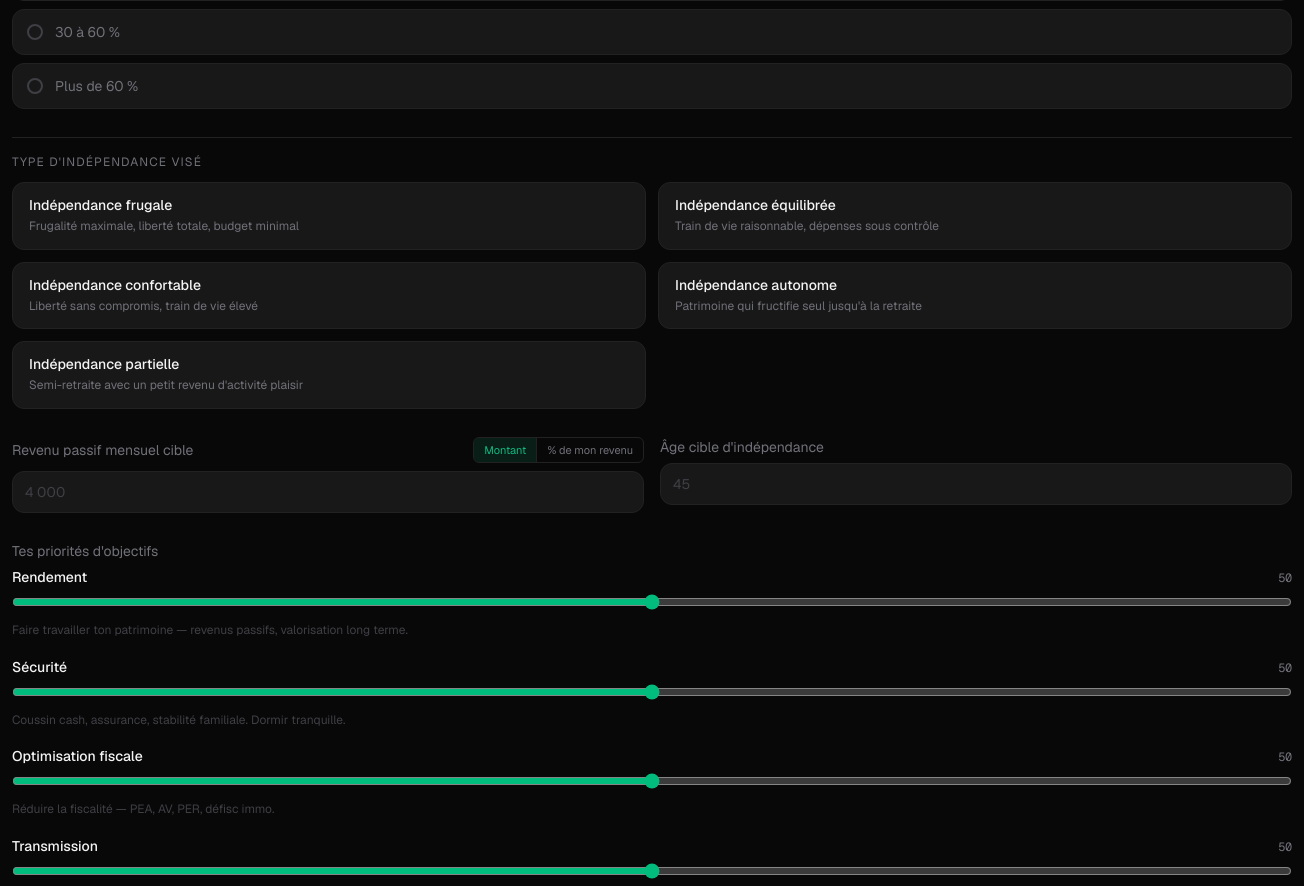
Test: StepRisqueFire — toggle revenu_passif_cible (QW8) › mode % avec revenuTotal=5000 + 70 % → revenu_passif_cible=3500
This screenshot has width=1304, height=886.
(page scrolled)
Step 1. Click the tab "% de mon revenu" → [590, 450], box [536,438,643,462]
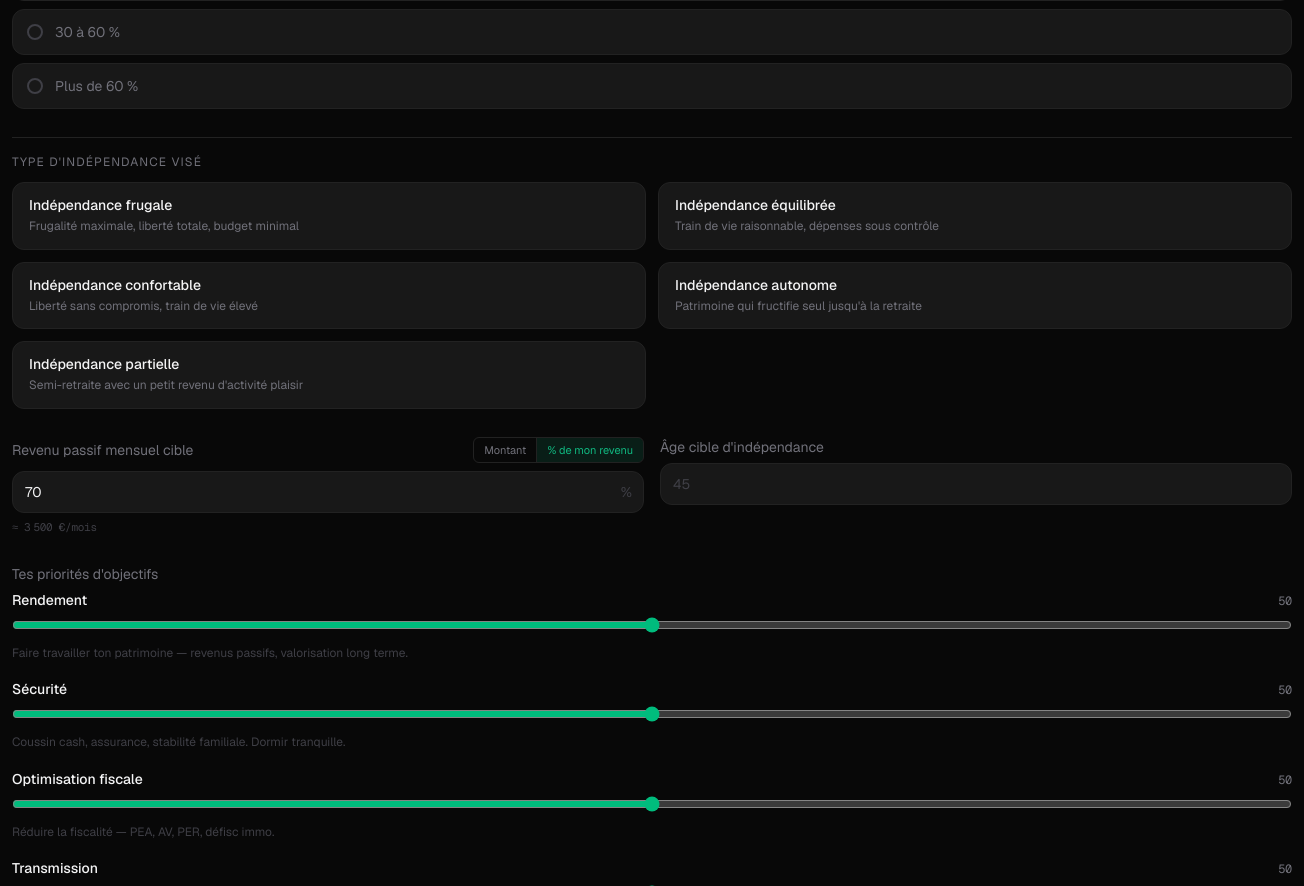
expect the number field named "Cible en pourcentage" holds "70": met, box [12,471,644,513]
